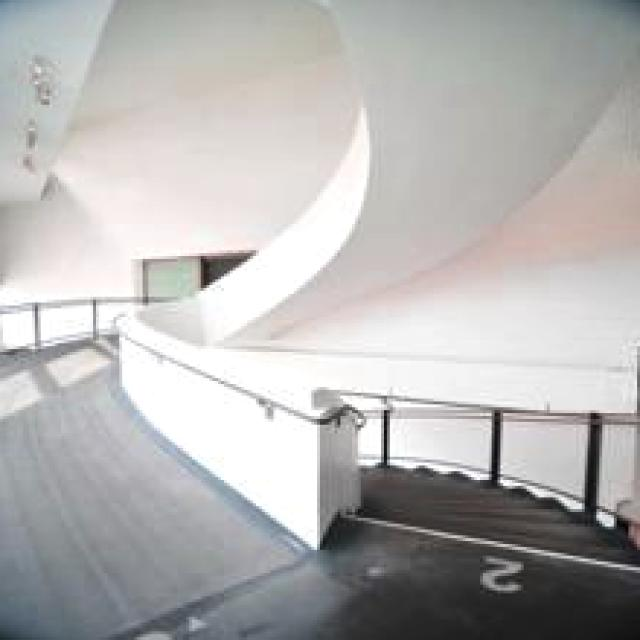downstair: (338, 362, 640, 586)
